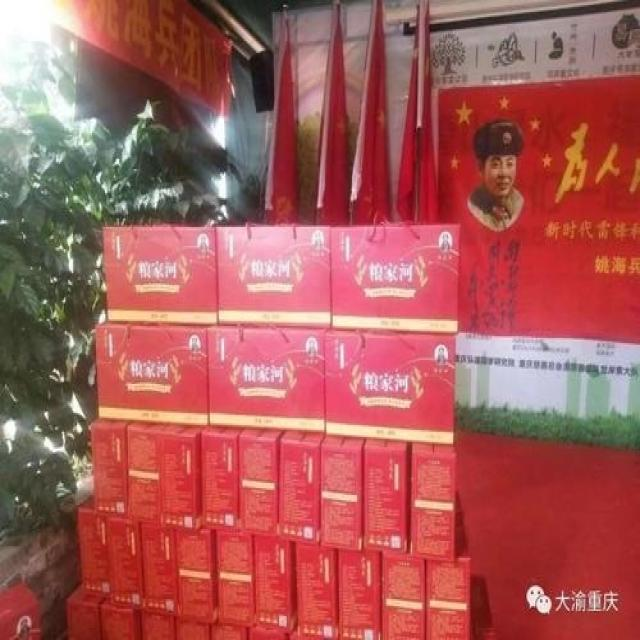box: (325, 328, 456, 444), (330, 225, 460, 333), (207, 326, 328, 432), (216, 227, 330, 328), (96, 321, 207, 423), (102, 227, 218, 324), (411, 444, 457, 561), (364, 440, 410, 553), (279, 432, 325, 543), (323, 435, 367, 551), (239, 428, 285, 536), (163, 425, 204, 529), (202, 427, 243, 531), (296, 544, 339, 638), (256, 536, 297, 633), (381, 553, 426, 640), (92, 418, 132, 515), (426, 558, 472, 640), (128, 422, 166, 521), (179, 527, 218, 623), (339, 550, 380, 640), (219, 531, 257, 626), (78, 493, 111, 597), (143, 522, 178, 614), (109, 519, 145, 608), (1, 580, 41, 638), (68, 585, 104, 640), (100, 601, 140, 638), (141, 609, 177, 638), (178, 618, 211, 638), (212, 625, 248, 640), (250, 628, 289, 640)
